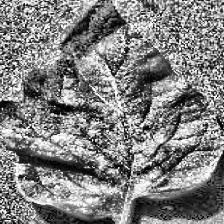spider mites: (0, 0, 224, 219)
